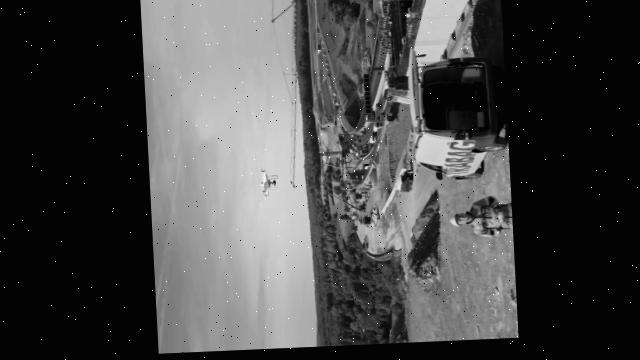drone: (256, 167, 278, 205)
